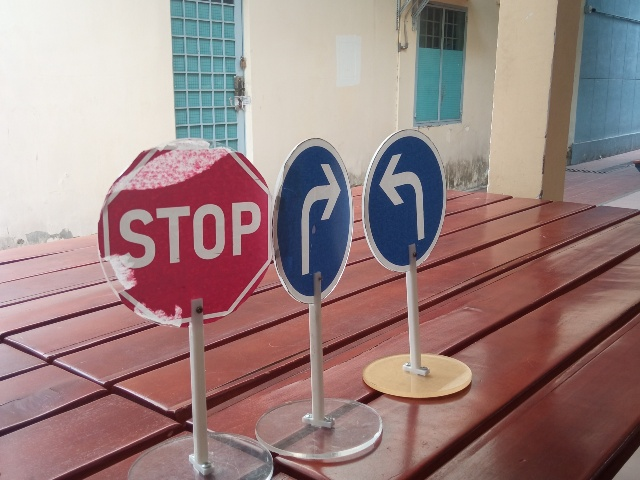Left_Sign: (361, 129, 447, 273)
Right_Sign: (270, 137, 355, 304)
Stop_Sign: (97, 137, 274, 329)
